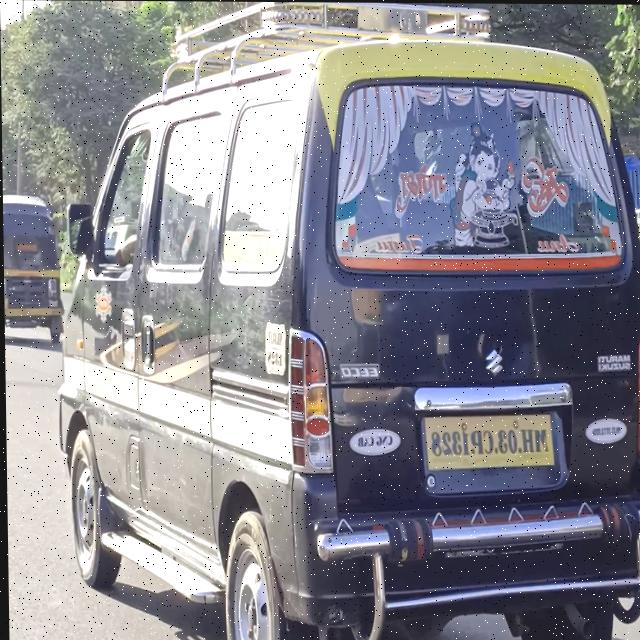plate: (421, 409, 557, 472)
